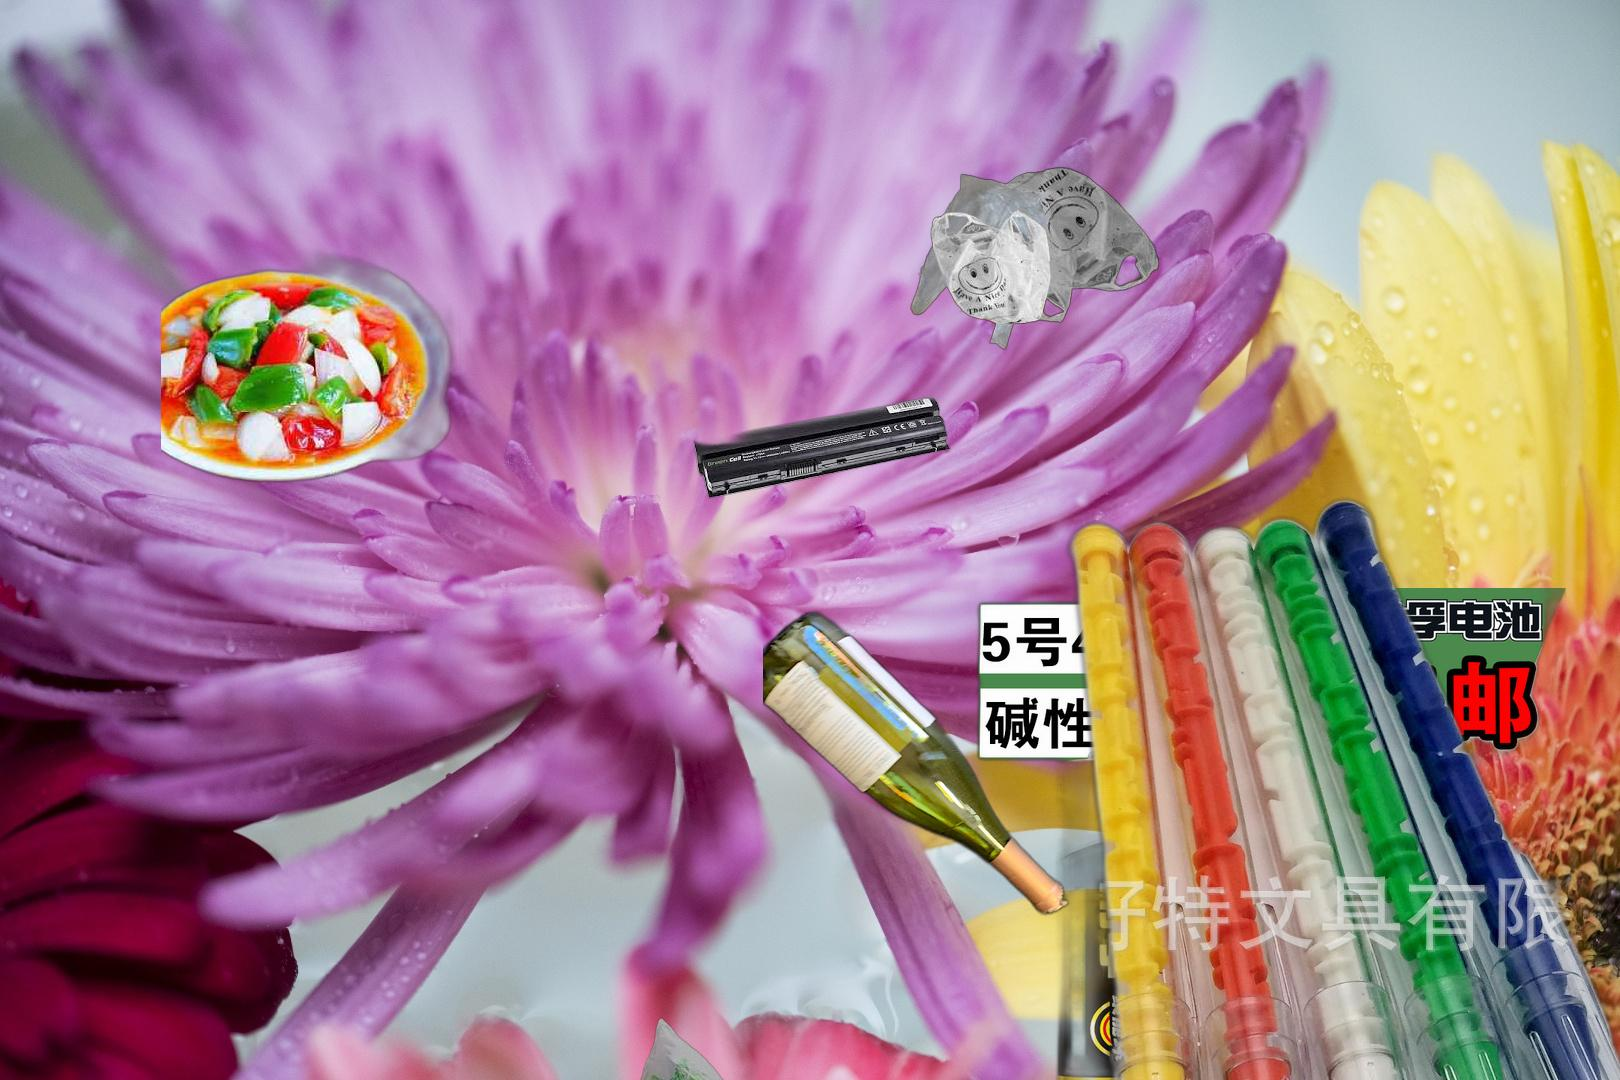battery: (965, 588, 1566, 1080), (692, 394, 951, 501)
biological: (162, 243, 460, 486)
glass: (763, 606, 1072, 920)
penholder: (1060, 491, 1620, 1080)
plastic-bag: (908, 164, 1162, 353), (607, 1016, 771, 1080)
